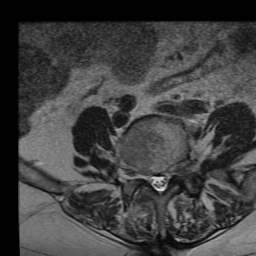CCS_stenosis: (155, 164, 163, 201)
LFS_normal: (171, 155, 181, 184)
LLS_stenosis: (162, 164, 171, 195)
RFS_stenosis: (137, 161, 147, 191)
RLS_stenosis: (147, 166, 156, 195)
